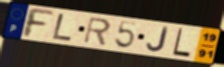5: (113, 19, 139, 50)
F: (22, 6, 55, 39)
J: (146, 26, 170, 53)
L: (51, 12, 74, 42), (171, 27, 192, 59)
R: (82, 17, 113, 47)
